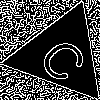C: (36, 29, 98, 86)
